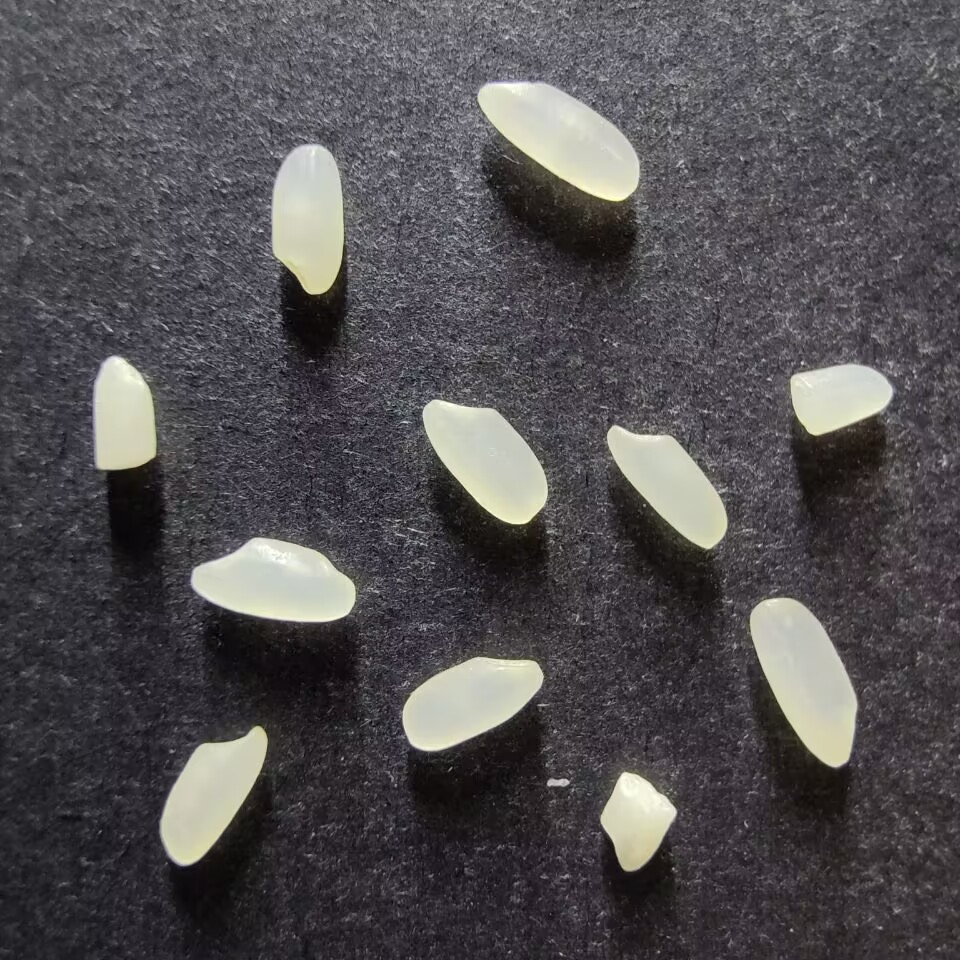broken: (598, 771, 676, 872), (788, 363, 893, 436), (91, 355, 157, 470)
rice: (476, 81, 640, 202), (748, 597, 856, 767), (421, 398, 548, 525), (158, 726, 268, 866), (606, 424, 728, 550), (189, 537, 355, 623), (401, 656, 543, 752), (270, 144, 343, 295)
